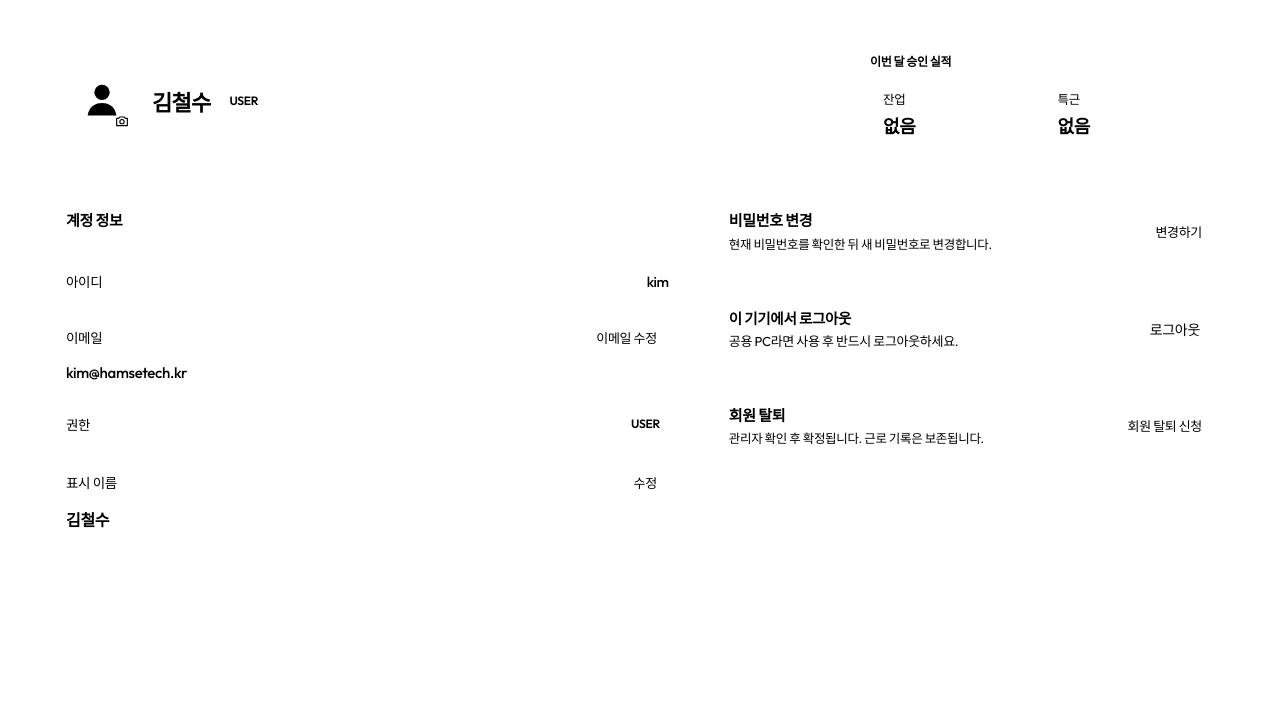
ProfilePage — 비밀번호 변경 › 일치하면 바로 알려준다
Check: the text "김철수" in the row of "잔업" is shown, box [152, 88, 210, 116]
Click the button "변경하기" at x=1179, y=231, box [1143, 215, 1214, 247]
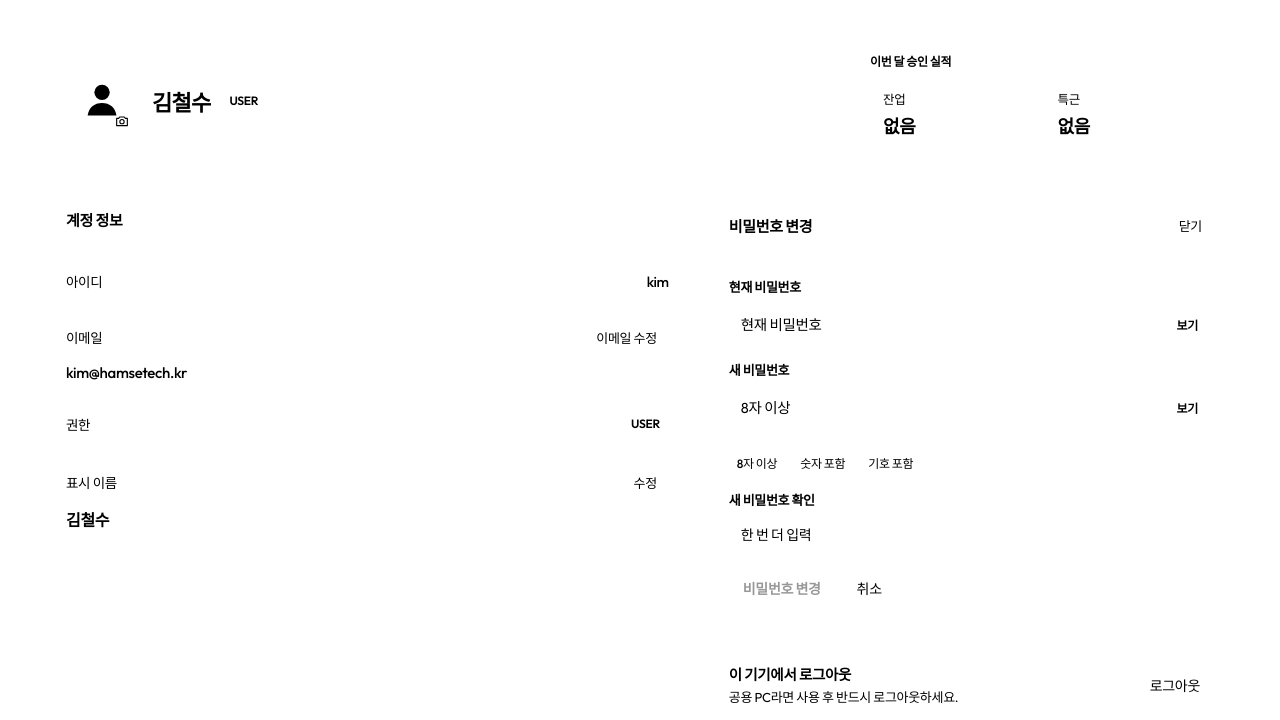
Check: the password field with placeholder "현재 비밀번호" is shown, box [729, 303, 1214, 345]
Type "brandnew1!" into the password field with placeholder "8자 이상" at x=971, y=407, box [729, 386, 1214, 428]
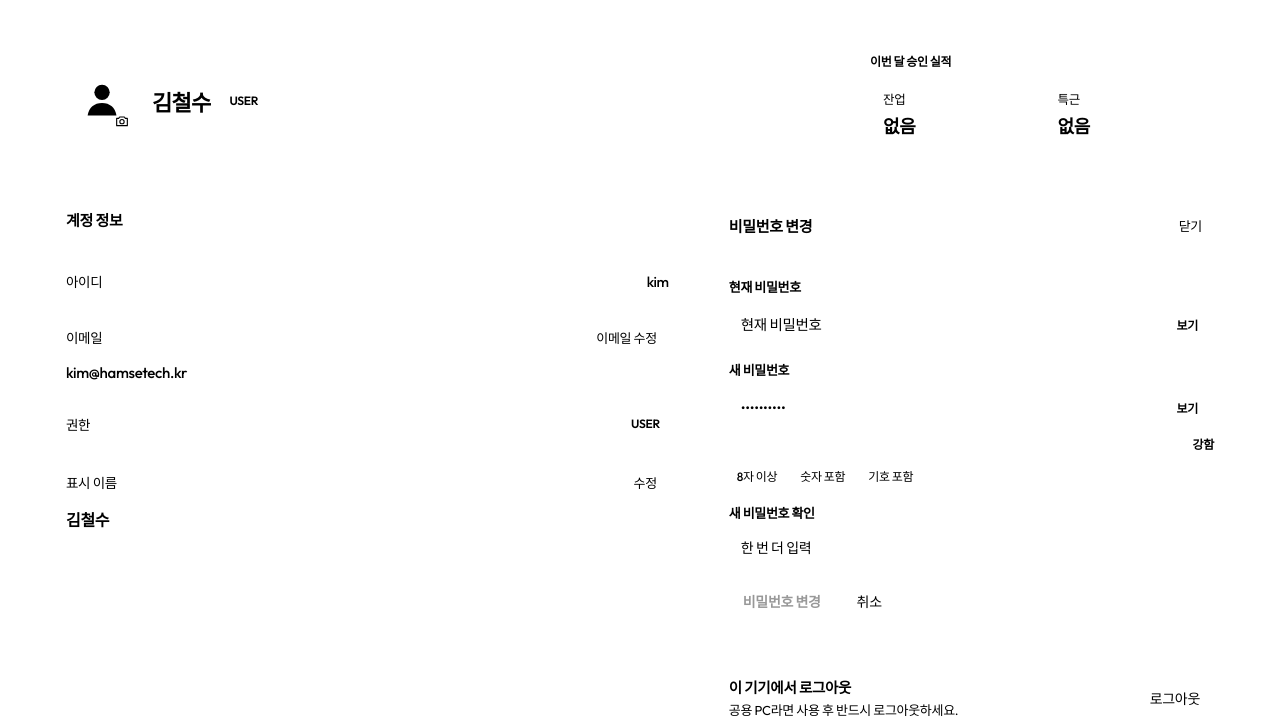
Type "brandnew1!" into the password field with placeholder "한 번 더 입력" at x=971, y=548, box [729, 529, 1214, 567]
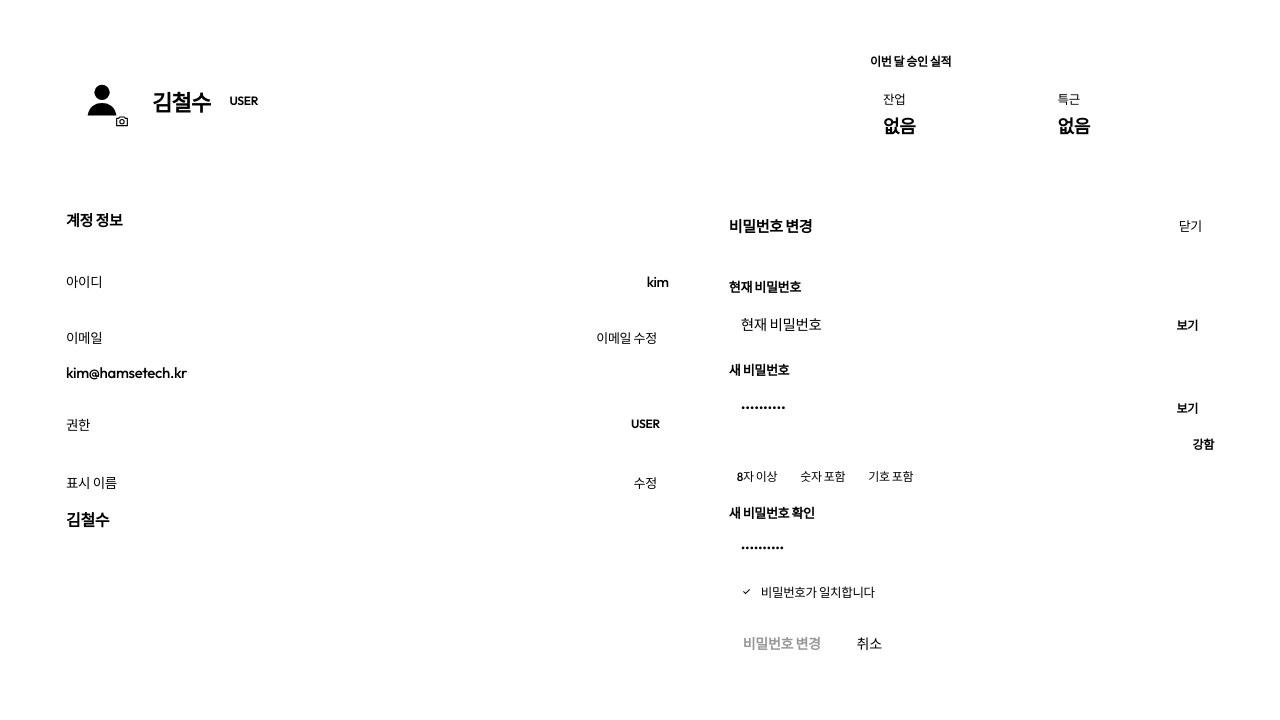
Check: the text "비밀번호가 일치합니다" is shown, box [761, 584, 875, 600]
